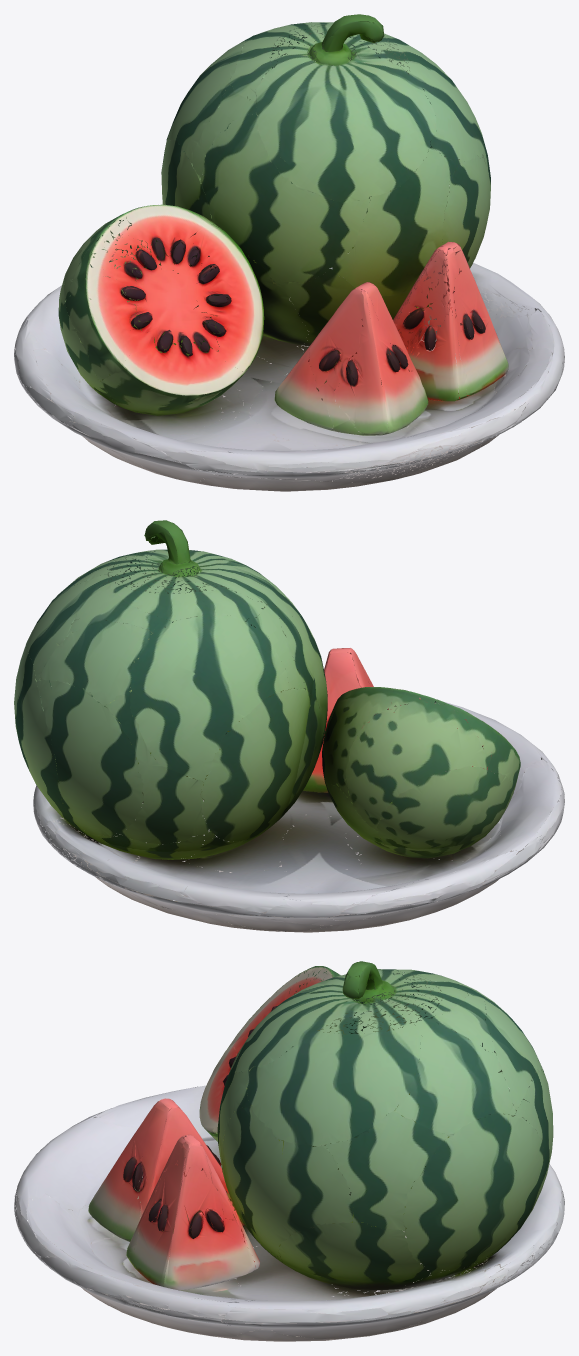
Rendered from melons.glb.
3 renders of one model, top to bottom at view 1: azimuth 30°, elevation 25°; view 2: azimuth 150°, elevation 25°; view 3: azimuth 270°, elevation 25°, orthographic. The views are drawn at different scales.
Visible parts, largest first — view 1: node_0; view 2: node_0; view 3: node_0.
Part boxes in pixels (x1,y1,x2,y2): node_0: (14, 14, 564, 491); node_0: (14, 520, 564, 932); node_0: (14, 961, 564, 1341).
Bounding box in the file's own units: 1.06 × 0.7044 × 1.06.
Materials: 1 (1 with a texture image).
